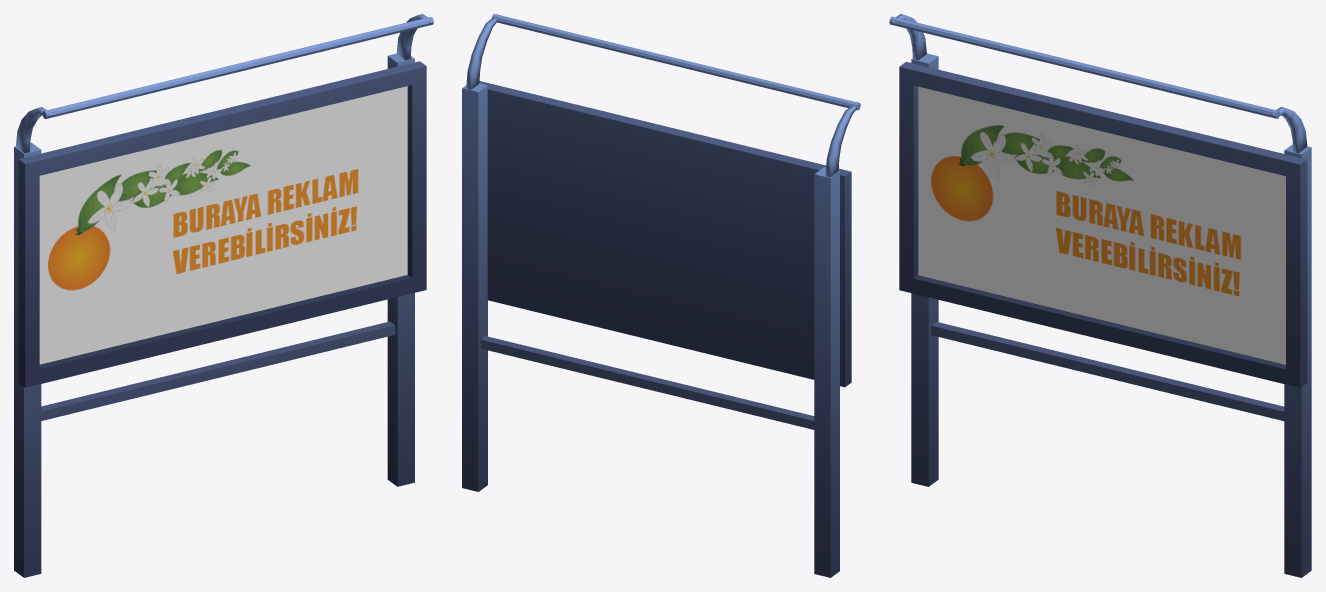
The model's file is BILBOARD.fbx.
3 views of the same model, side by side, from view 1: azimuth 30°, elevation 25°; view 2: azimuth 150°, elevation 25°; view 3: azimuth 330°, elevation 25° (orthographic). The views are drawn at different scales.
Visible parts, largest first — view 1: BILBOARD; view 2: BILBOARD; view 3: BILBOARD.
Boxes of the visible parts, box(x1,y1,x2,y2) form: BILBOARD: box(14, 14, 433, 577); BILBOARD: box(462, 14, 860, 577); BILBOARD: box(889, 14, 1311, 577).
Bounding box in the file's own units: 463 × 530 × 65.39.
